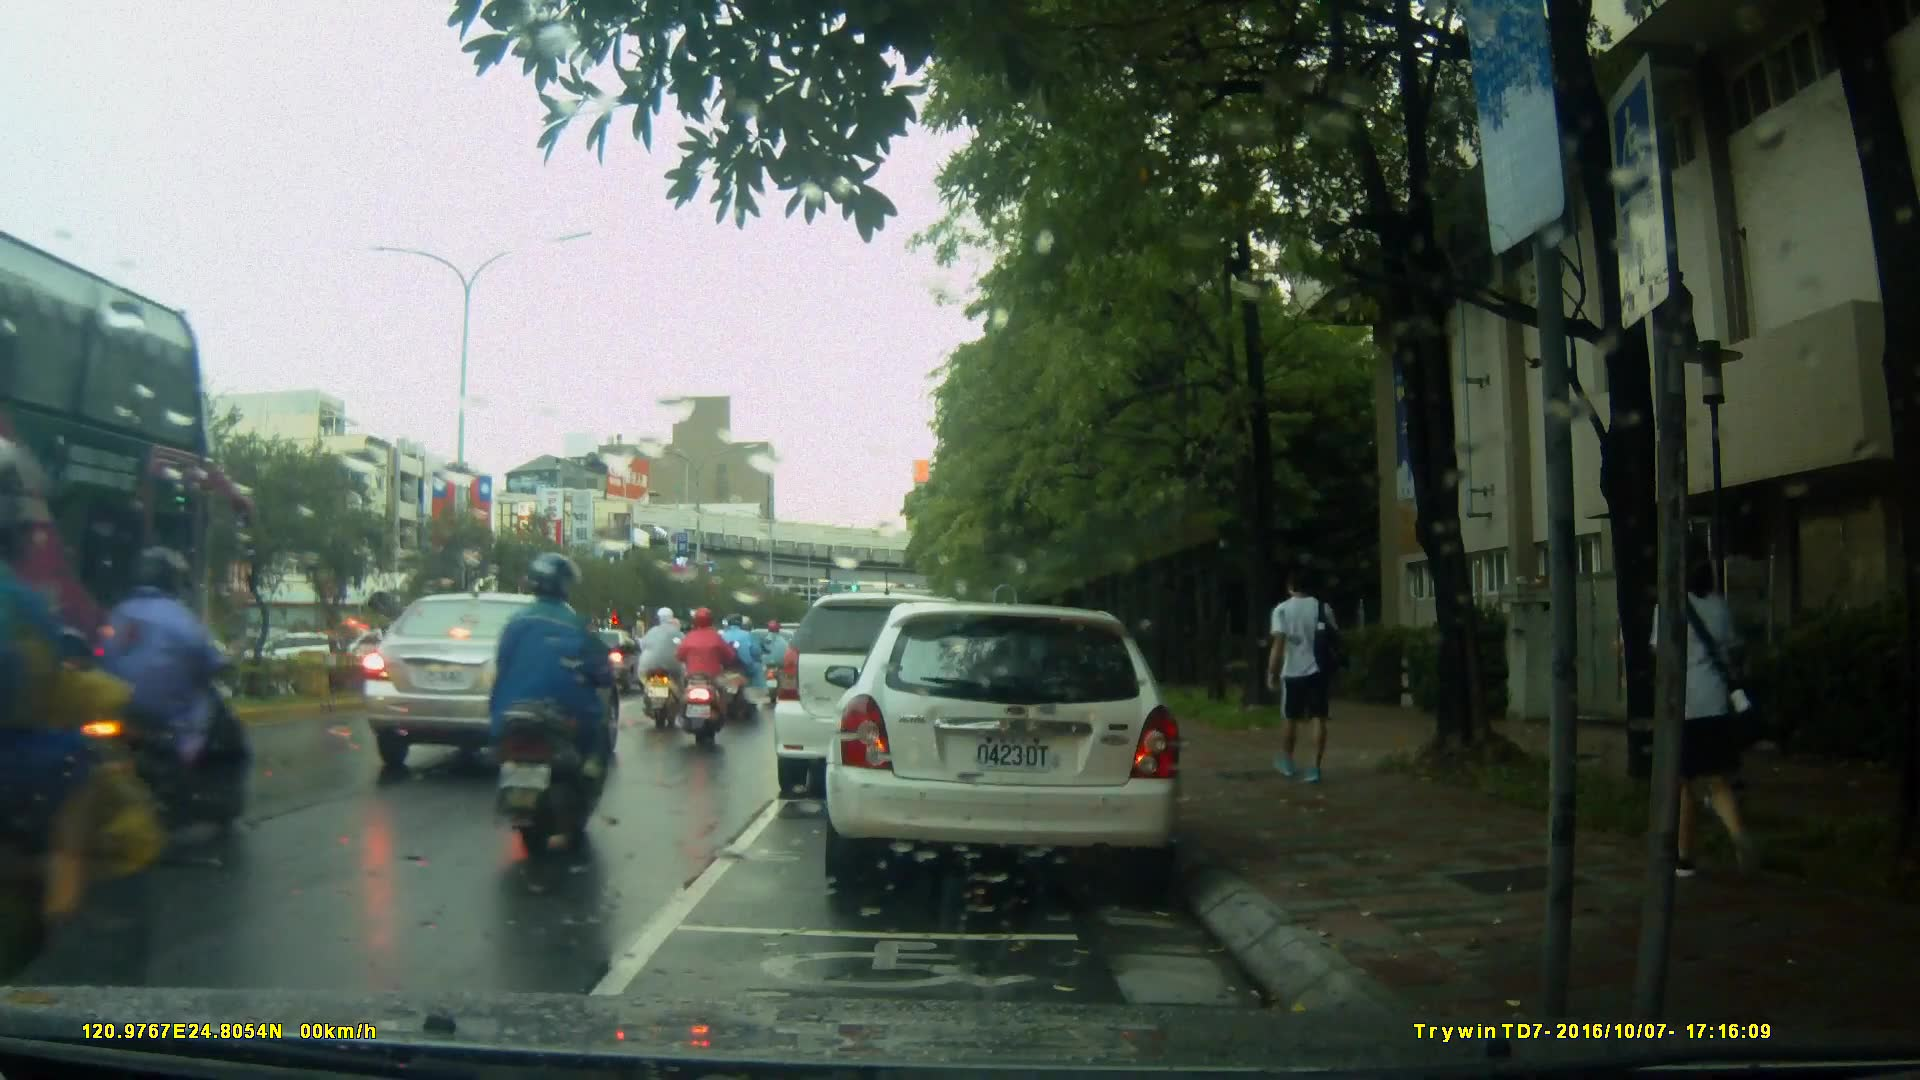pedestrian: (69, 553, 250, 857), (1631, 530, 1751, 894), (1263, 556, 1362, 803)
rider: (1, 426, 175, 1050), (486, 553, 616, 862), (672, 605, 737, 751), (634, 603, 689, 734), (716, 612, 765, 714), (757, 617, 792, 710)
vehicle: (10, 215, 248, 903), (822, 604, 1188, 882), (362, 590, 630, 772), (774, 595, 995, 802)
